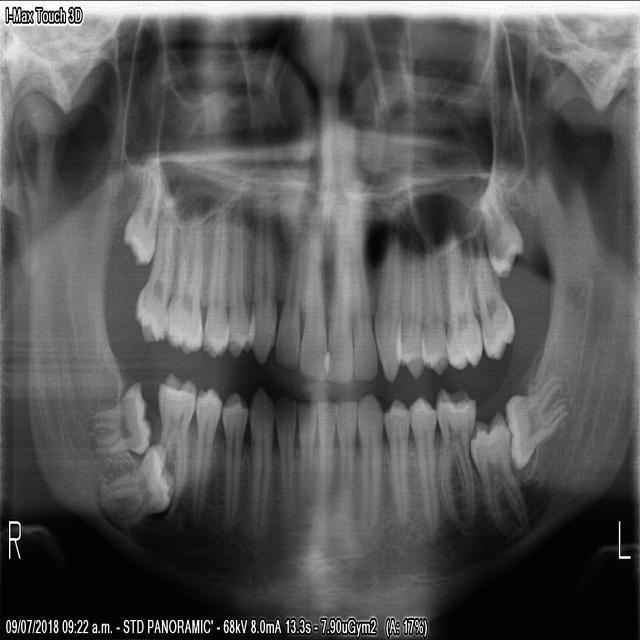LCD: (378, 388, 412, 530)
LCU: (368, 219, 401, 384), (353, 386, 382, 536)
LID: (330, 392, 356, 534), (315, 392, 335, 536)
LIU: (322, 205, 351, 384), (349, 206, 378, 384)
LMD: (467, 405, 528, 538), (501, 367, 572, 469), (431, 378, 475, 532)
LMU: (441, 220, 481, 373), (470, 234, 515, 363), (476, 174, 524, 279)
LPMD: (404, 386, 439, 546)
LPMU: (390, 219, 427, 383), (417, 222, 451, 380)
RCD: (245, 377, 273, 544)
RCU: (244, 174, 275, 367)
RID: (270, 389, 294, 537), (295, 396, 315, 523)
RIU: (294, 208, 325, 381), (271, 214, 302, 372)
RMU: (99, 433, 172, 530), (159, 194, 202, 356), (131, 190, 173, 348), (152, 362, 196, 512), (85, 377, 150, 456), (119, 159, 163, 267)
RPMD: (186, 376, 223, 529), (216, 385, 246, 527)
RPMU: (222, 194, 254, 360), (199, 197, 228, 360)
